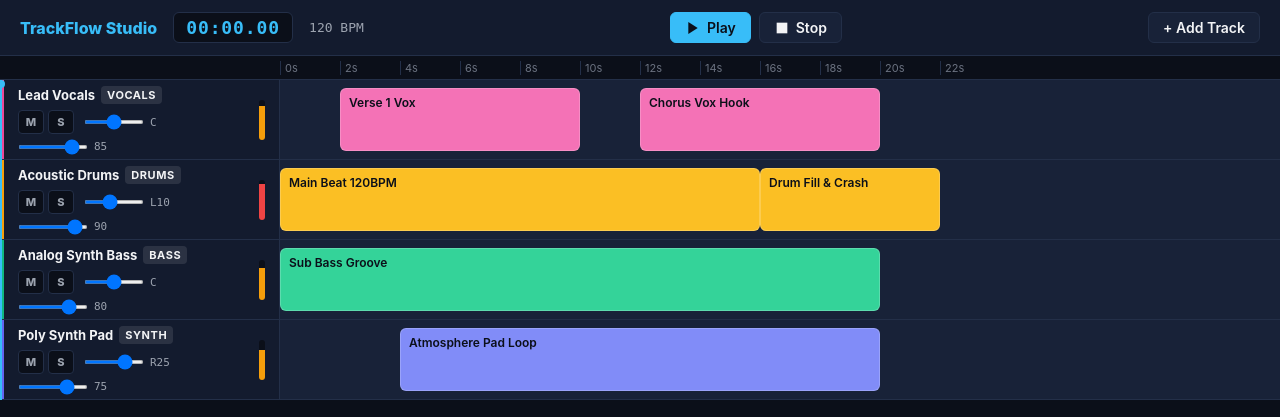
Test: TrackStudioView Timeline Operations › allows toggling play and pause
The image size is (1280, 417).
Step 1. Click the button with aria-label "start playback" → click(710, 28), box [670, 12, 751, 43]
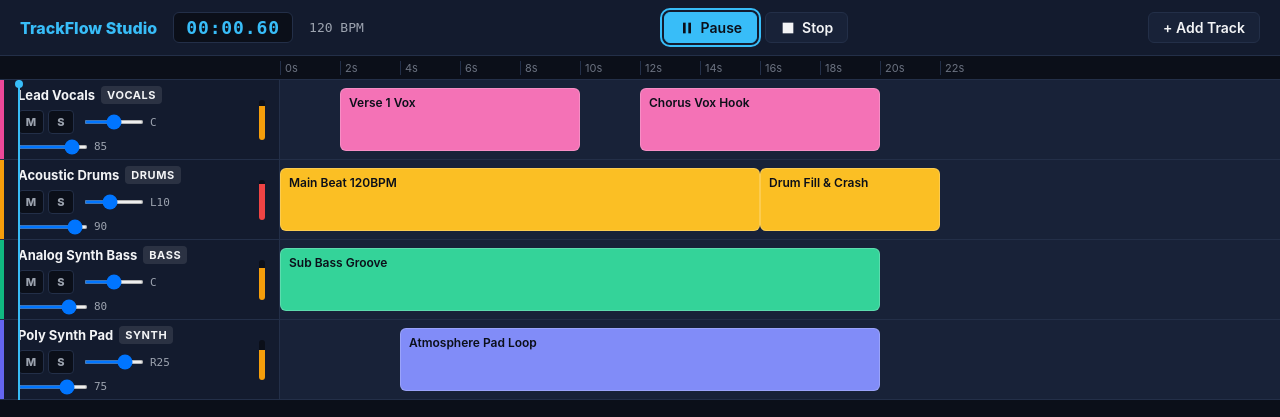
Result: the button with aria-label "pause playback" is shown at [664, 12, 757, 43]
